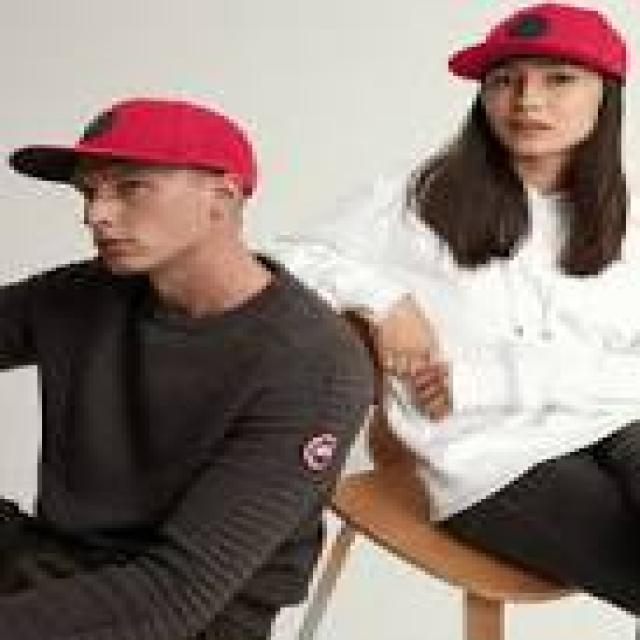3_gorra: (10, 97, 258, 198)
